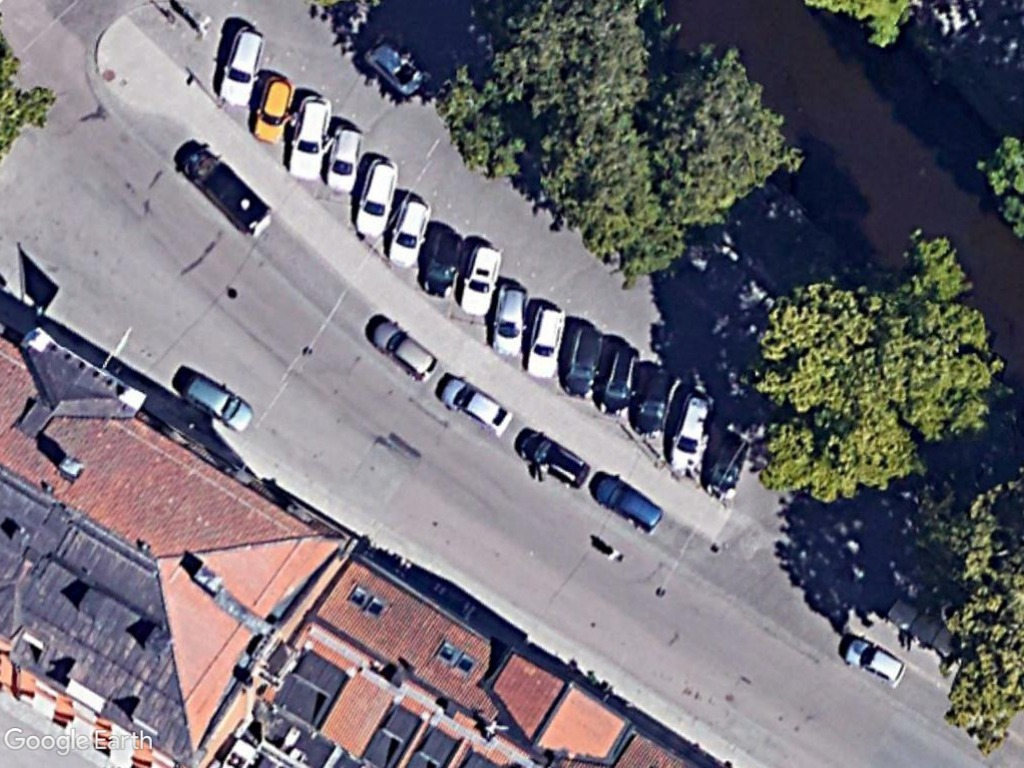car: (279, 90, 337, 190), (661, 384, 719, 482), (365, 312, 441, 386), (347, 153, 408, 245), (513, 425, 590, 495), (177, 371, 261, 435), (215, 18, 271, 114), (588, 469, 666, 535), (435, 373, 516, 435), (242, 71, 299, 156), (626, 359, 681, 445), (382, 193, 441, 273), (458, 237, 509, 326), (520, 298, 572, 384), (480, 280, 533, 363), (841, 629, 912, 690), (562, 323, 612, 405), (319, 121, 371, 199), (593, 338, 643, 419), (418, 229, 467, 303)
van: (176, 140, 278, 245)
